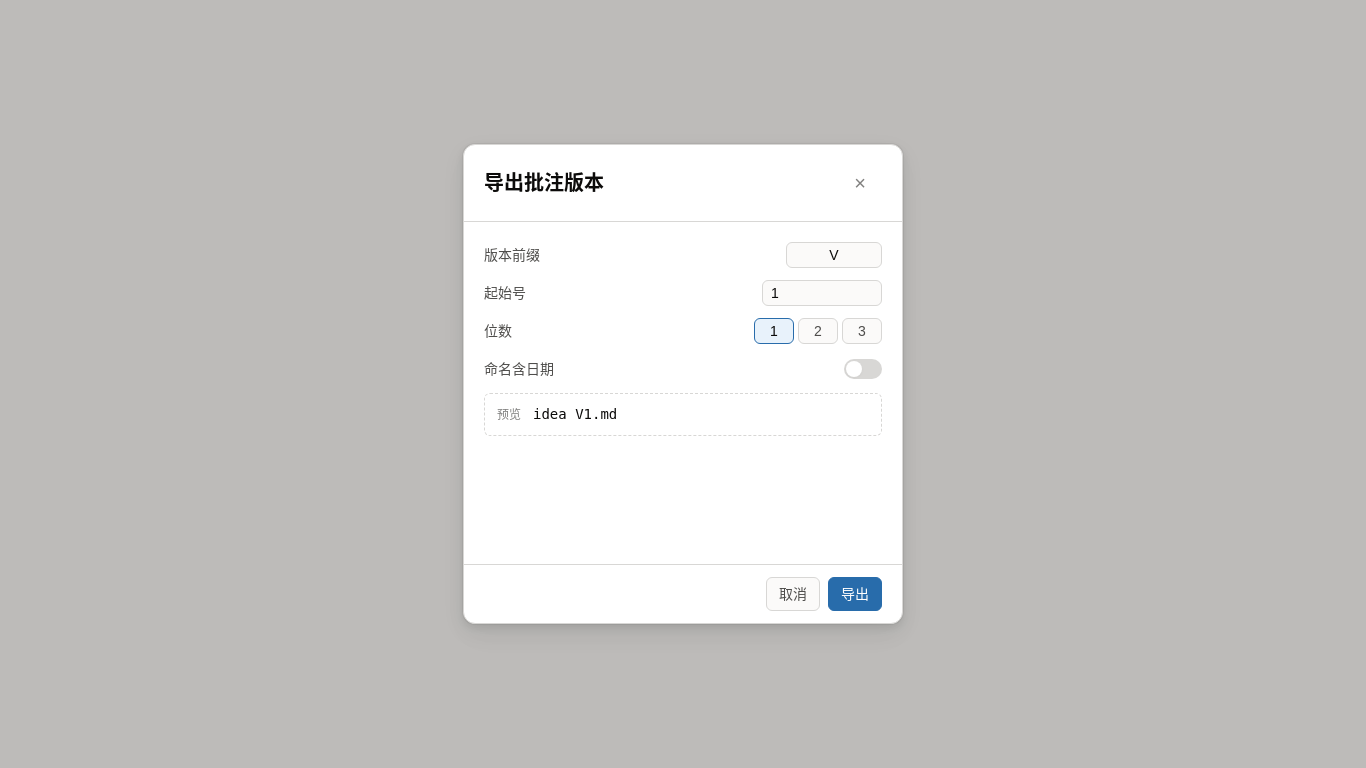
Test: ReviewExportDialog › 规则联动实时预览（以起始号预览）
Type "R" into the field with class "rule-input-prefix".
click(834, 255); type("R")  # box [786,242,882,268]
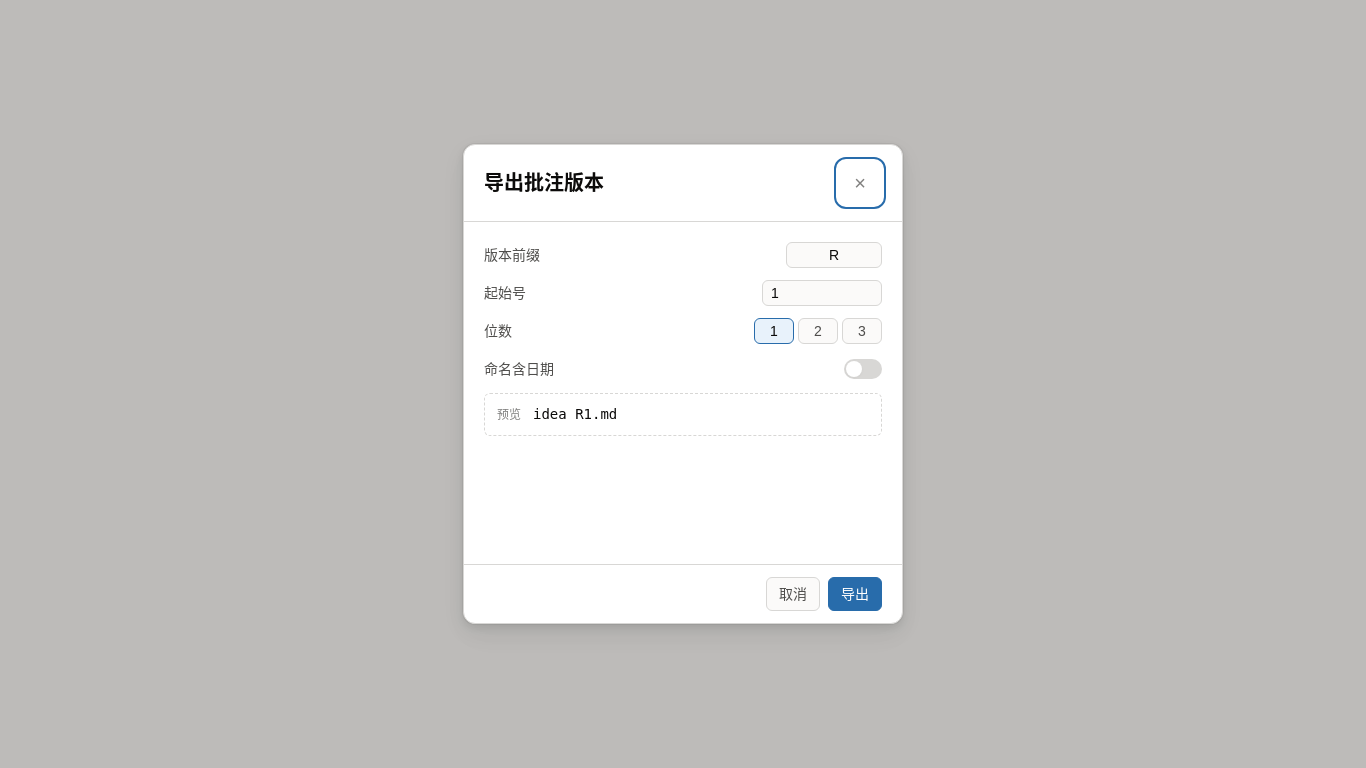
Now the text with class "rule-preview-name" reads "idea R1.md", box [533,406,617,422]
Replace the text in the number field labelled "起始号" with "3" at (822, 293), box [762,280,882,306]
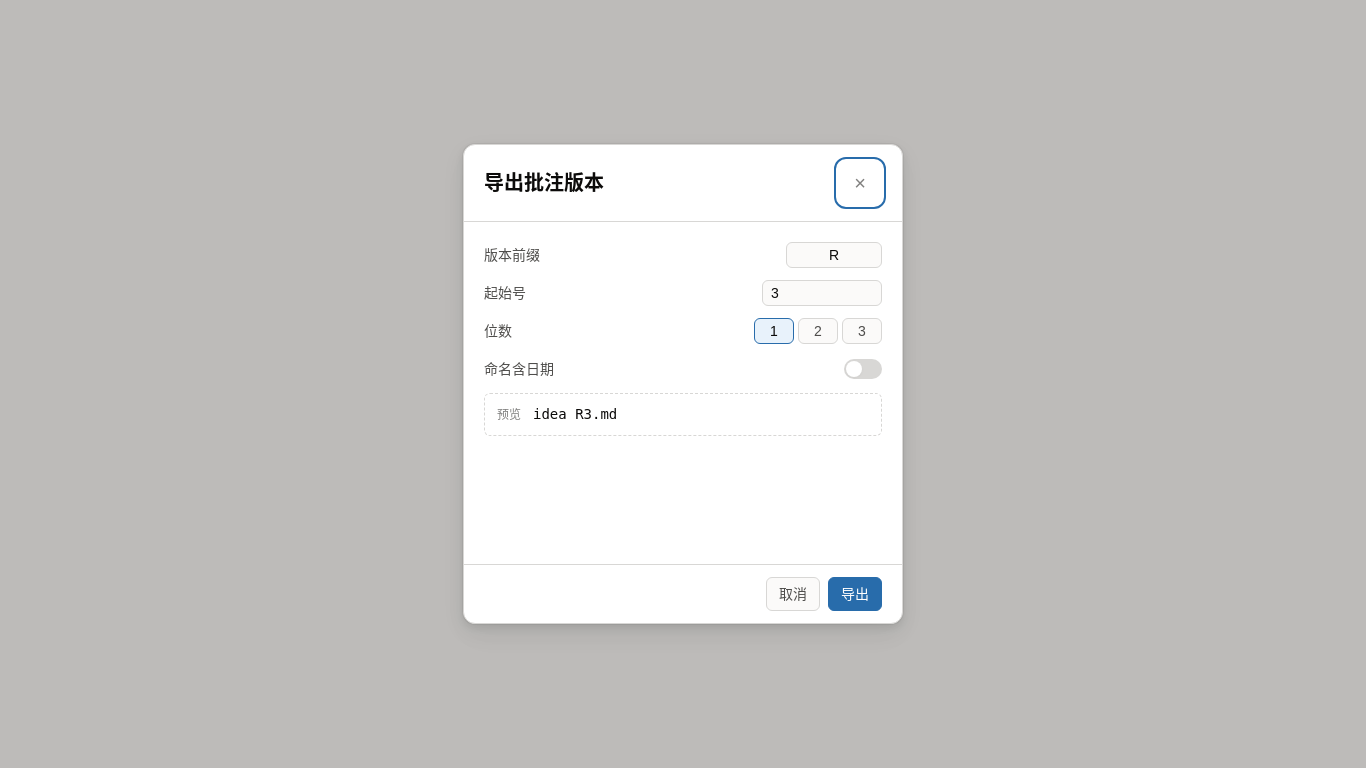
Now the text with class "rule-preview-name" reads "idea R3.md", box [533,406,617,422]
Click the button with class "rule-padding-option" showing "2".
click(818, 331)  # box [798,318,838,344]
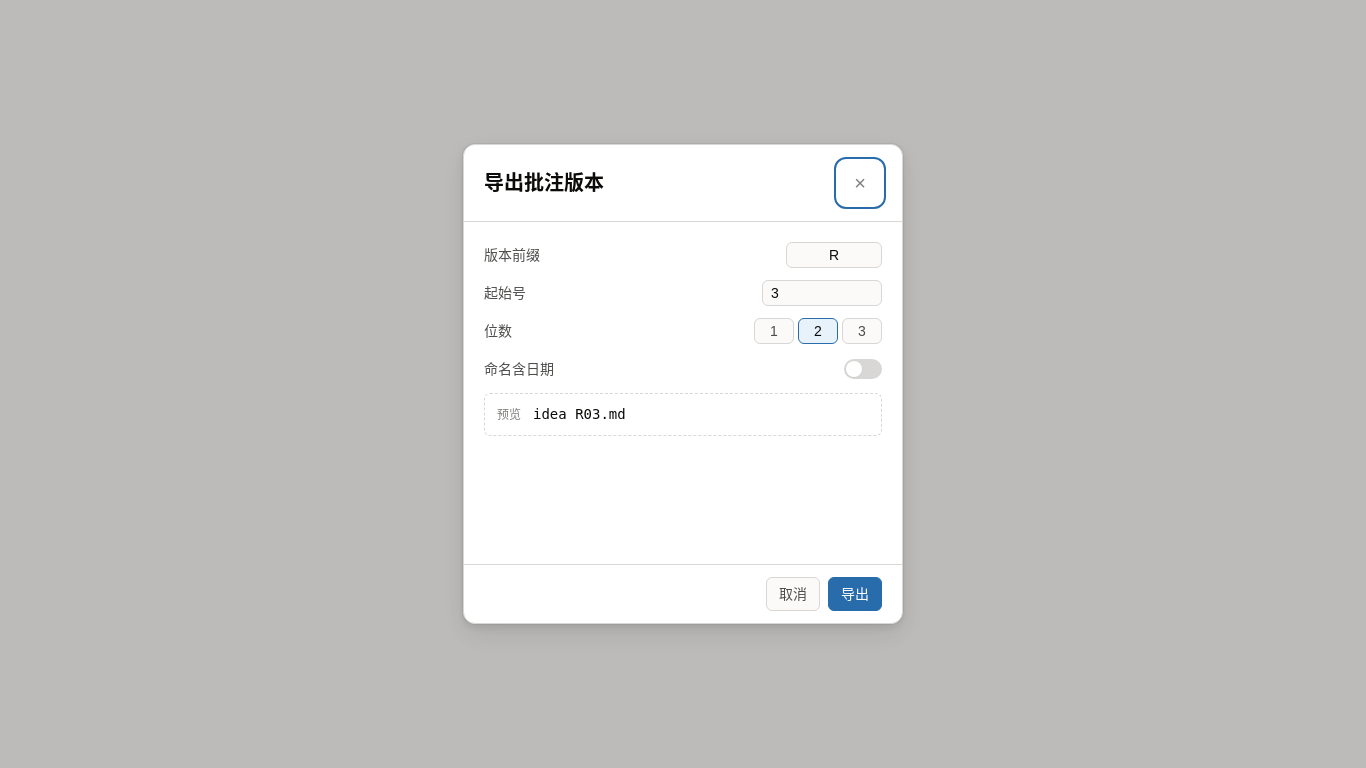
Now the text with class "rule-preview-name" reads "idea R03.md", box [533,406,626,422]
Click the switch with class "toggle-track".
click(863, 369)  # box [844,359,882,379]
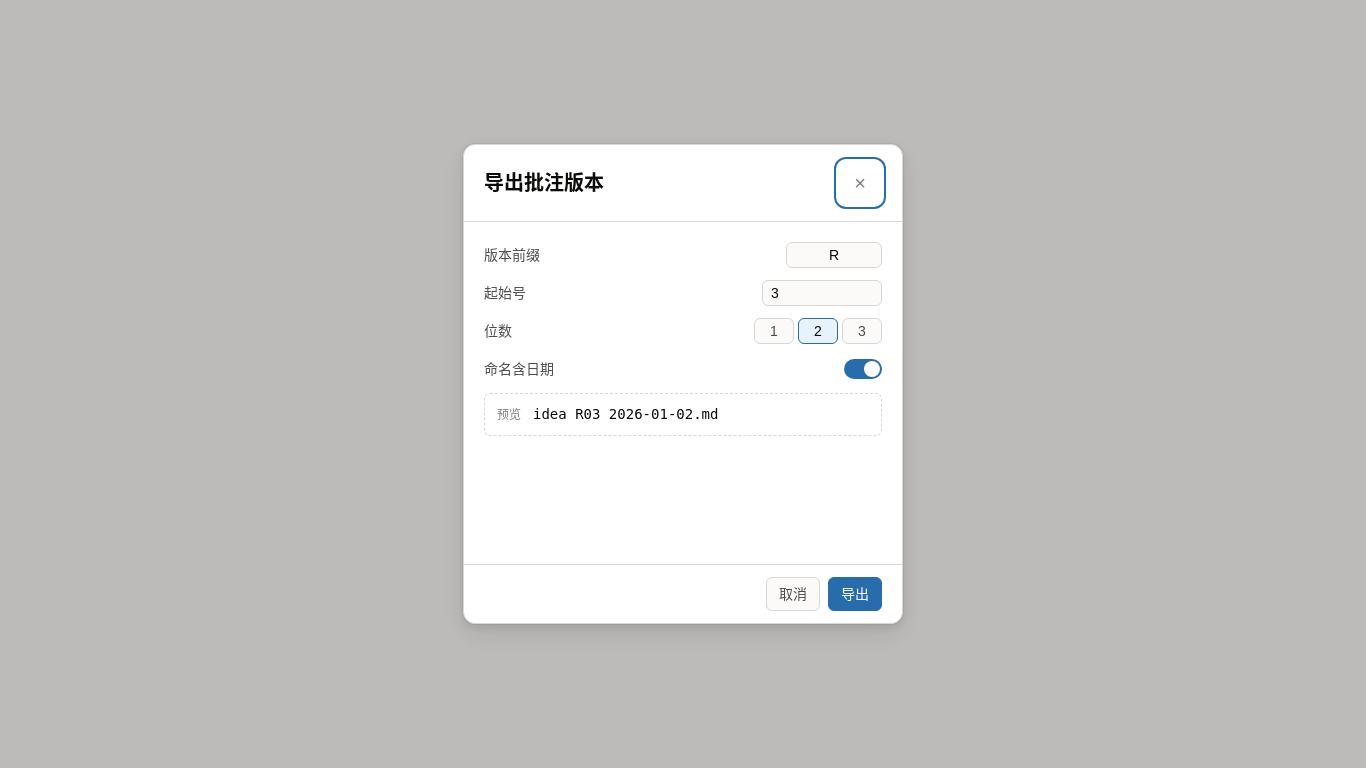
Now the text with class "rule-preview-name" reads "idea R03 2026-01-02.md", box [533,406,718,422]
